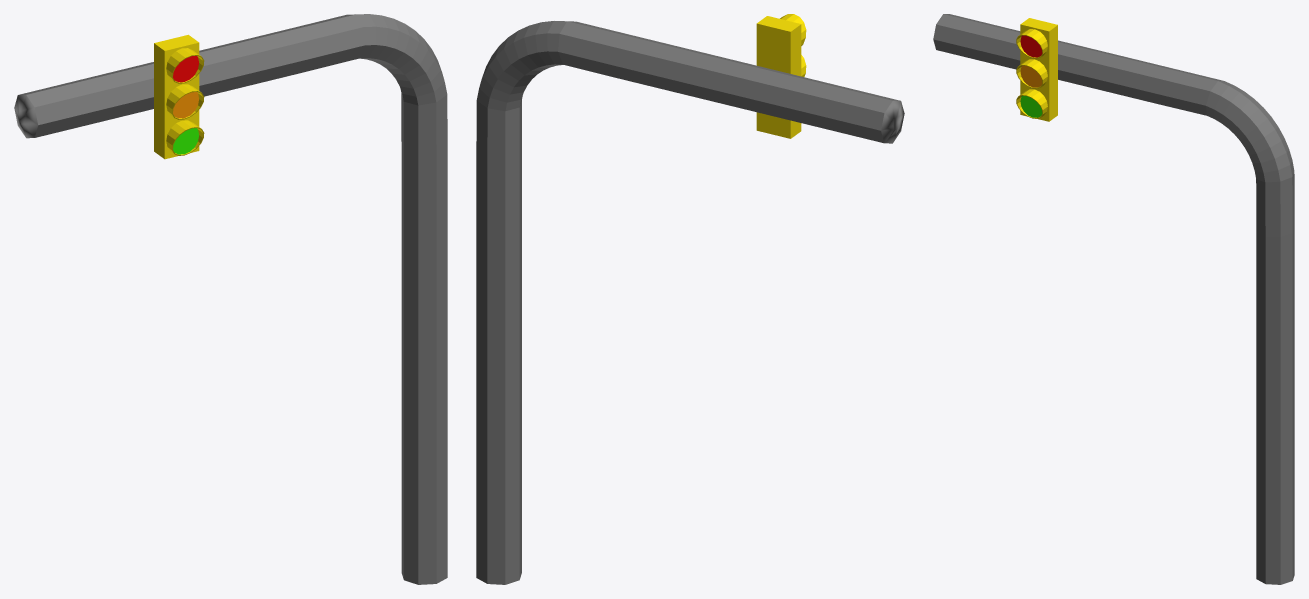
The model's file is traffic_light_preset.fbx.
3 renders of one model, left to right at view 1: azimuth 30°, elevation 25°; view 2: azimuth 150°, elevation 25°; view 3: azimuth 330°, elevation 25°, orthographic. The views are drawn at different scales.
Visible parts, largest first — view 1: traffic_light_pole, traffic_light_top, traffic_light_bar, traffic_light_back.001, traffic_light_back, traffic_light_back.002, traffic_light_bar_end, traffic_light_hood.002, traffic_light_hood.001, traffic_light_hood; view 2: traffic_light_pole, traffic_light_bar, traffic_light_top, traffic_light_back.001, traffic_light_back.002, traffic_light_bar_end; view 3: traffic_light_pole, traffic_light_top, traffic_light_bar, traffic_light_back.001, traffic_light_back.002, traffic_light_back.
Boxes of the visible parts, x1=… form: traffic_light_pole: x1=401, y1=157, x2=447, y2=584; traffic_light_top: x1=284, y1=14, x2=447, y2=167; traffic_light_bar: x1=19, y1=30, x2=303, y2=137; traffic_light_back.001: x1=154, y1=34, x2=199, y2=86; traffic_light_back: x1=154, y1=79, x2=199, y2=122; traffic_light_back.002: x1=154, y1=115, x2=199, y2=159; traffic_light_bar_end: x1=14, y1=95, x2=37, y2=138; traffic_light_hood.002: x1=166, y1=120, x2=204, y2=155; traffic_light_hood.001: x1=166, y1=48, x2=204, y2=83; traffic_light_hood: x1=166, y1=84, x2=204, y2=119; traffic_light_pole: x1=476, y1=161, x2=521, y2=584; traffic_light_bar: x1=618, y1=36, x2=900, y2=143; traffic_light_top: x1=476, y1=21, x2=638, y2=172; traffic_light_back.001: x1=756, y1=16, x2=801, y2=67; traffic_light_back.002: x1=756, y1=112, x2=801, y2=138; traffic_light_bar_end: x1=881, y1=100, x2=904, y2=143; traffic_light_pole: x1=1256, y1=228, x2=1294, y2=584; traffic_light_top: x1=1154, y1=68, x2=1294, y2=237; traffic_light_bar: x1=933, y1=14, x2=1171, y2=103; traffic_light_back.001: x1=1020, y1=18, x2=1057, y2=61; traffic_light_back.002: x1=1020, y1=84, x2=1057, y2=121; traffic_light_back: x1=1020, y1=54, x2=1057, y2=91.
Bounding box in the file's own units: 319 × 439 × 58.61.
